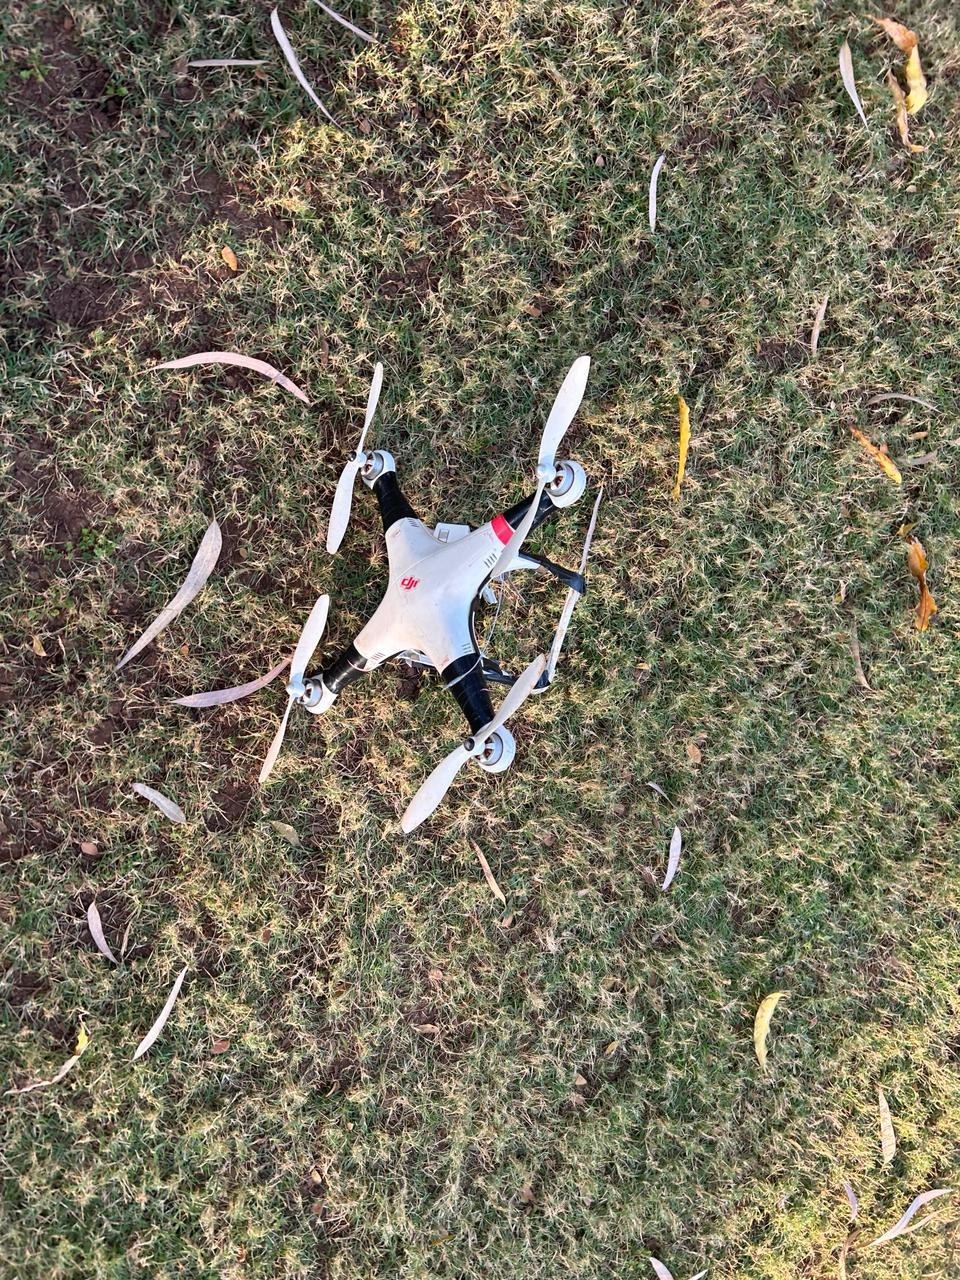drone: (114, 280, 781, 887)
